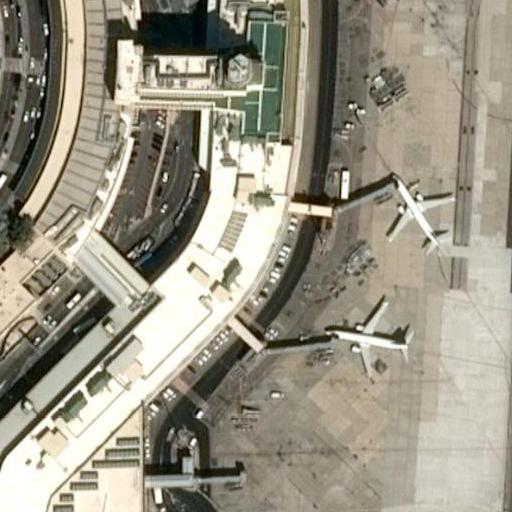Aircraft: (328, 293, 414, 371), (381, 170, 457, 256)
